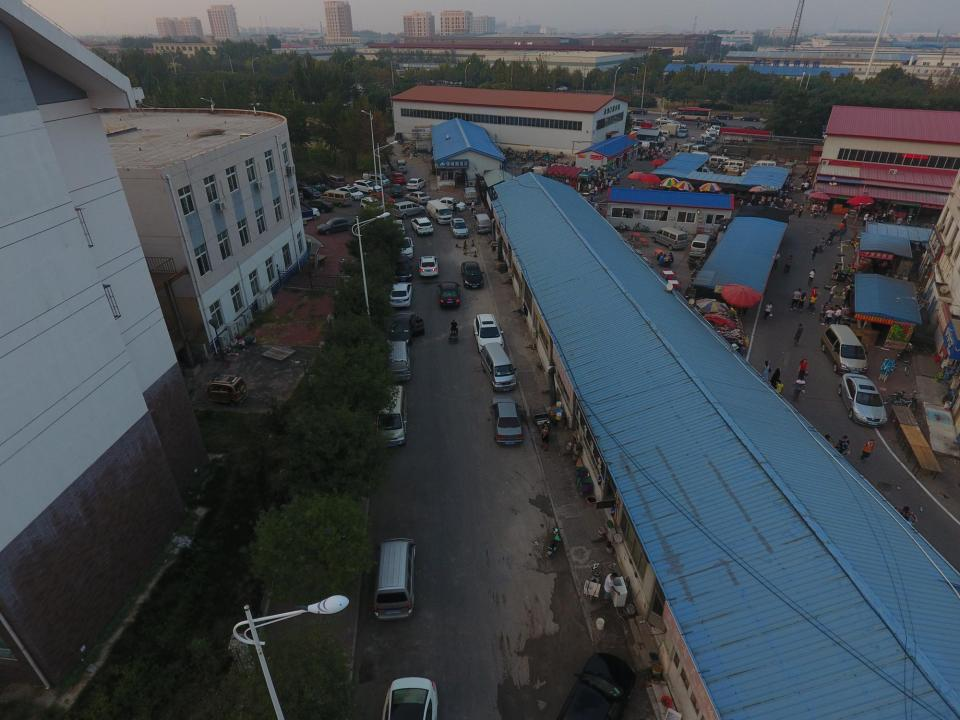bus: (677, 106, 711, 122)
car: (559, 651, 637, 720), (837, 372, 888, 427), (382, 677, 437, 720), (490, 395, 524, 446), (387, 312, 425, 346), (473, 314, 504, 353), (316, 217, 358, 236), (436, 281, 462, 308), (460, 261, 484, 289), (388, 282, 412, 307), (392, 253, 412, 282), (410, 216, 434, 236), (418, 256, 439, 278), (434, 197, 467, 211), (360, 197, 387, 214), (301, 200, 332, 214), (395, 236, 414, 258), (450, 217, 469, 238), (293, 208, 320, 222), (294, 187, 322, 200), (370, 192, 394, 207), (404, 191, 430, 204), (387, 219, 405, 235), (406, 177, 426, 189), (741, 124, 763, 134), (706, 118, 727, 127), (620, 114, 638, 123), (633, 118, 651, 127), (645, 134, 665, 142), (714, 112, 734, 120), (740, 114, 760, 122), (390, 184, 402, 197), (711, 125, 724, 137), (670, 120, 687, 128), (706, 128, 721, 137), (630, 108, 649, 115), (393, 173, 406, 183), (677, 128, 689, 138), (654, 117, 672, 123), (670, 111, 688, 117), (556, 86, 568, 92), (356, 84, 364, 90)
truck: (690, 166, 714, 178), (726, 164, 739, 178), (534, 165, 546, 178)
van: (371, 536, 417, 622), (820, 323, 870, 375), (374, 384, 407, 446), (480, 342, 517, 392), (383, 341, 411, 381), (653, 226, 689, 250), (426, 200, 452, 224), (320, 190, 352, 208), (690, 233, 712, 258), (393, 202, 425, 219), (362, 170, 389, 188), (473, 214, 492, 234), (740, 167, 769, 179), (752, 159, 777, 172), (367, 164, 390, 176), (708, 155, 730, 167), (462, 187, 477, 204), (722, 159, 744, 170), (550, 163, 570, 175), (284, 190, 301, 204), (328, 175, 346, 188), (691, 144, 709, 156), (692, 150, 709, 162), (699, 134, 714, 146), (396, 158, 408, 172), (522, 162, 534, 176), (783, 161, 794, 175), (654, 130, 669, 140), (681, 144, 696, 154), (631, 127, 646, 136), (709, 130, 717, 142)
